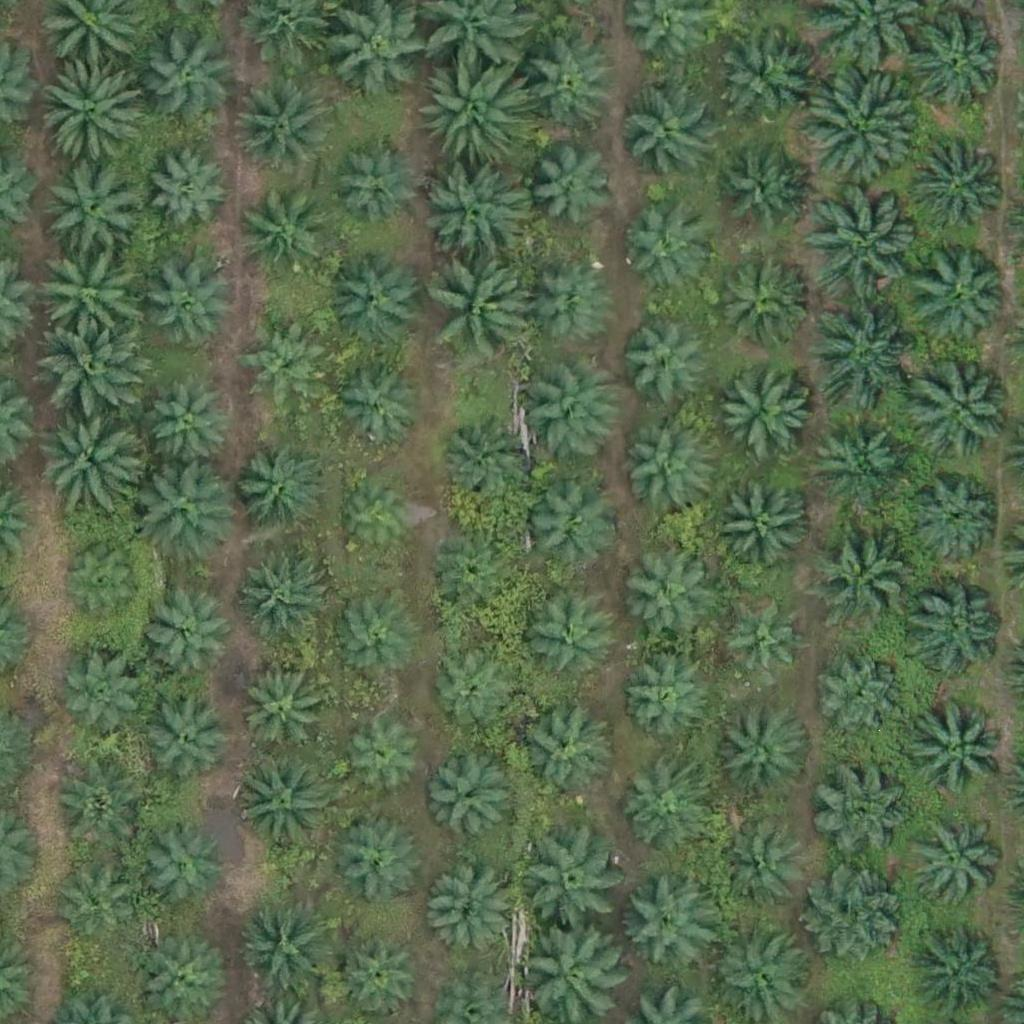Kelapa_Sawit: (802, 71, 915, 184), (803, 298, 915, 411), (809, 187, 921, 300), (703, 23, 815, 136), (417, 57, 529, 170), (38, 58, 150, 171), (38, 251, 138, 352), (36, 404, 136, 505), (139, 460, 239, 561), (234, 756, 334, 857), (237, 896, 337, 997), (432, 262, 532, 363), (439, 410, 539, 511), (512, 706, 612, 807), (527, 831, 627, 932), (617, 543, 717, 644), (712, 477, 812, 578), (714, 358, 814, 459), (710, 249, 810, 350), (809, 410, 909, 511), (812, 521, 912, 622), (811, 759, 911, 860), (809, 863, 909, 964), (906, 244, 1006, 345), (912, 698, 1012, 799), (905, 813, 1005, 914), (909, 922, 1009, 1023), (906, 9, 1006, 110), (904, 135, 1004, 236), (616, 83, 716, 184), (519, 33, 619, 134), (46, 153, 146, 254), (43, 322, 143, 422), (322, 253, 422, 353), (329, 357, 429, 457), (522, 364, 622, 464), (618, 869, 718, 969), (911, 363, 1011, 463), (902, 580, 1002, 680), (423, 165, 523, 265), (333, 2, 433, 102), (232, 77, 332, 177), (238, 449, 326, 538), (62, 652, 150, 740), (55, 766, 143, 854), (148, 384, 236, 472), (140, 595, 228, 683), (144, 696, 232, 784), (136, 825, 224, 913), (241, 192, 329, 280), (241, 319, 329, 407), (238, 555, 326, 643), (434, 534, 522, 622), (524, 261, 612, 349), (525, 482, 613, 570), (521, 594, 609, 682), (622, 319, 710, 407), (622, 426, 710, 514), (619, 659, 707, 747), (721, 703, 809, 791), (816, 653, 904, 741), (717, 144, 805, 232), (328, 145, 416, 233), (715, 596, 802, 685), (53, 861, 140, 949), (56, 543, 143, 631), (145, 263, 232, 351), (241, 669, 328, 757), (336, 933, 423, 1021), (336, 815, 423, 903), (343, 711, 430, 799), (331, 588, 418, 676), (430, 651, 517, 739), (429, 760, 516, 848), (426, 868, 513, 956), (618, 766, 705, 854), (716, 824, 803, 912), (911, 474, 998, 562), (615, 208, 702, 296), (526, 140, 613, 228), (146, 35, 233, 123), (147, 143, 234, 231), (341, 482, 416, 558)
